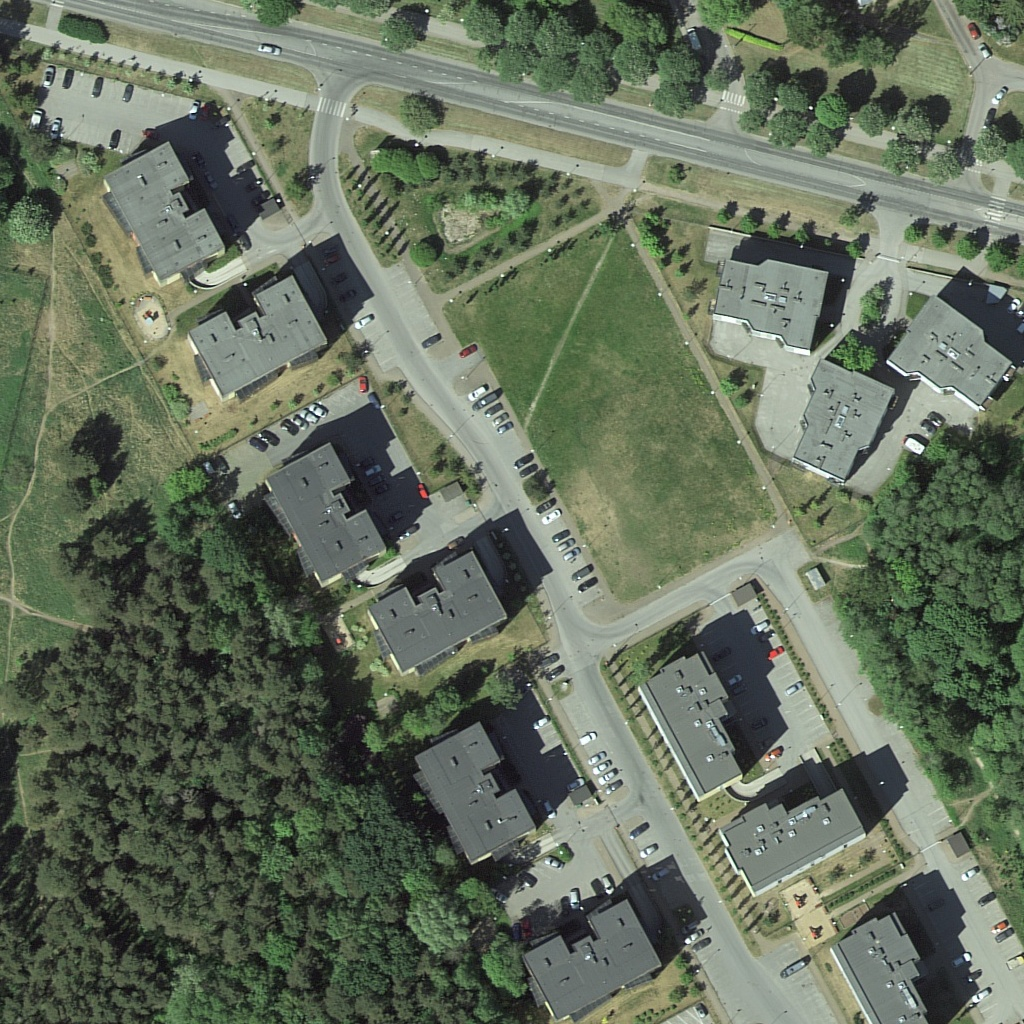building: (97, 136, 223, 289), (258, 444, 388, 588), (182, 272, 329, 396), (408, 723, 531, 866), (888, 292, 1024, 416), (372, 553, 505, 673), (718, 789, 870, 893), (529, 897, 657, 1017), (648, 656, 745, 795), (705, 256, 832, 356), (795, 362, 894, 490), (827, 908, 922, 1024)
